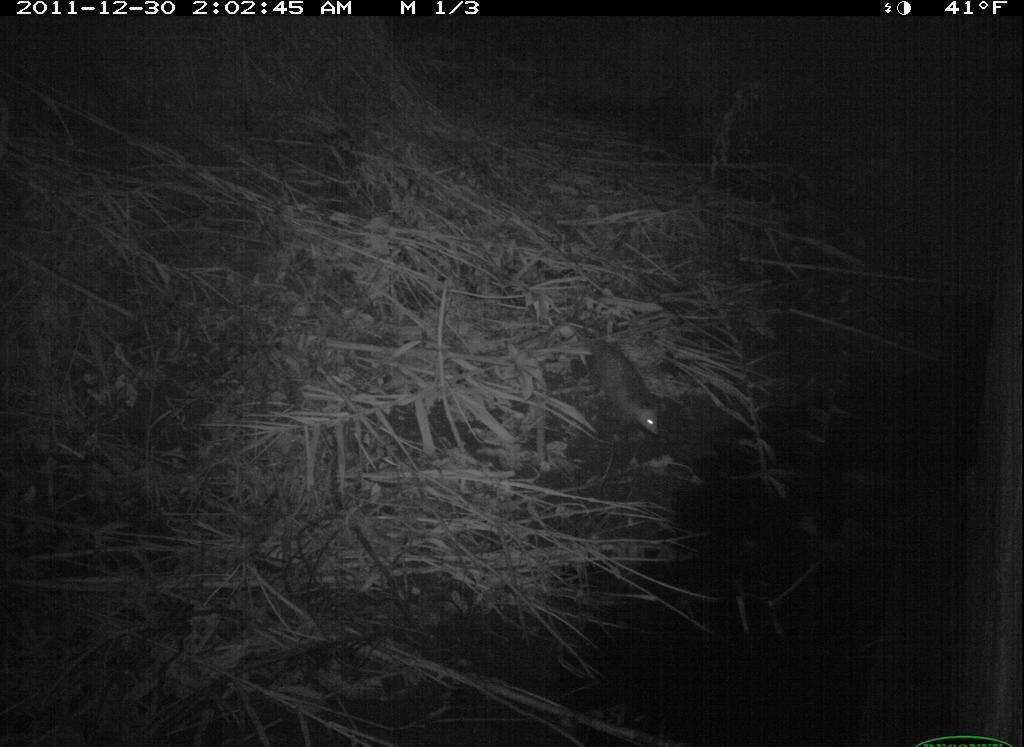opossum: (548, 306, 687, 455)
